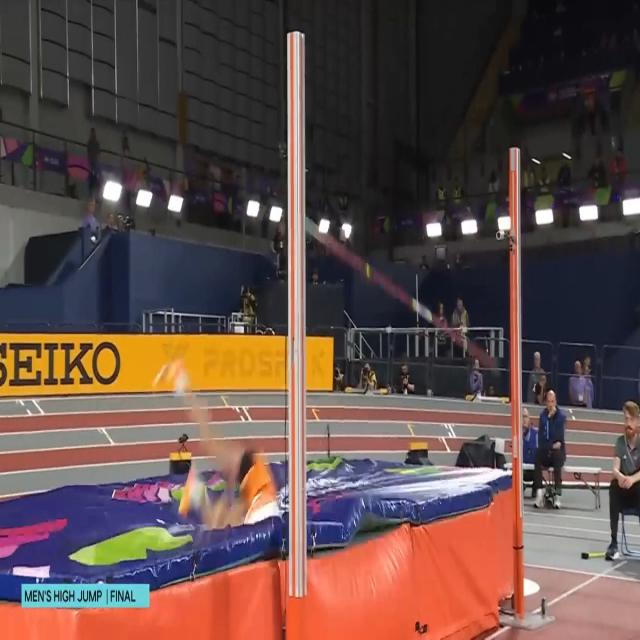land: (150, 351, 282, 529)
